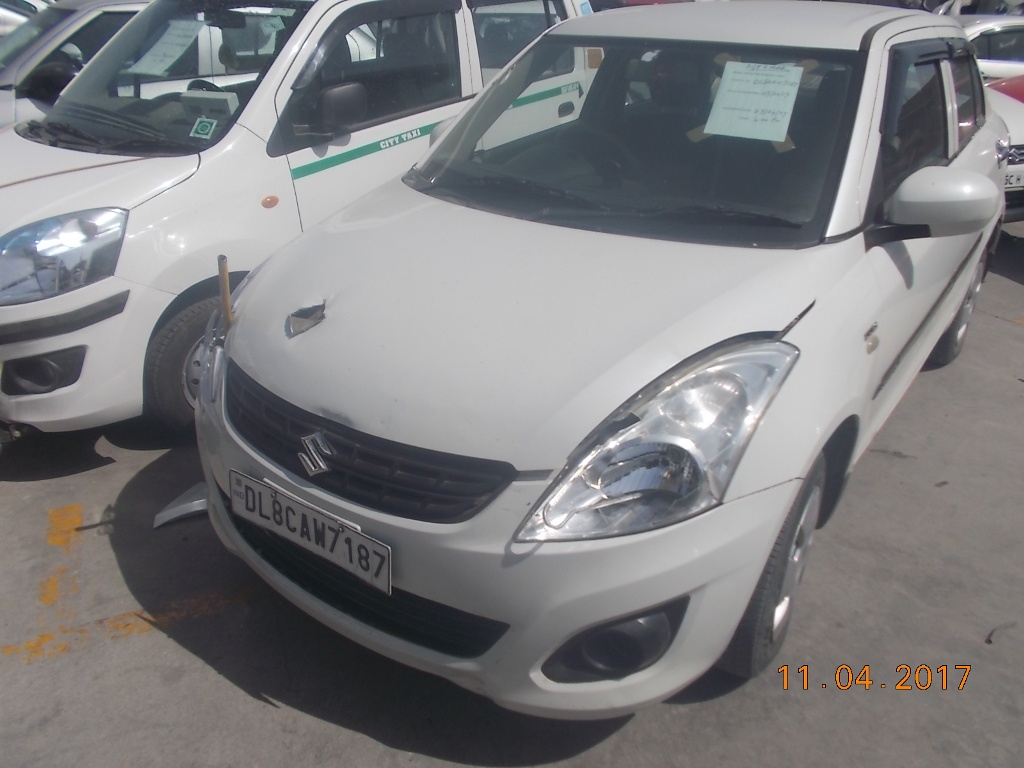Tear: (277, 294, 341, 352)
